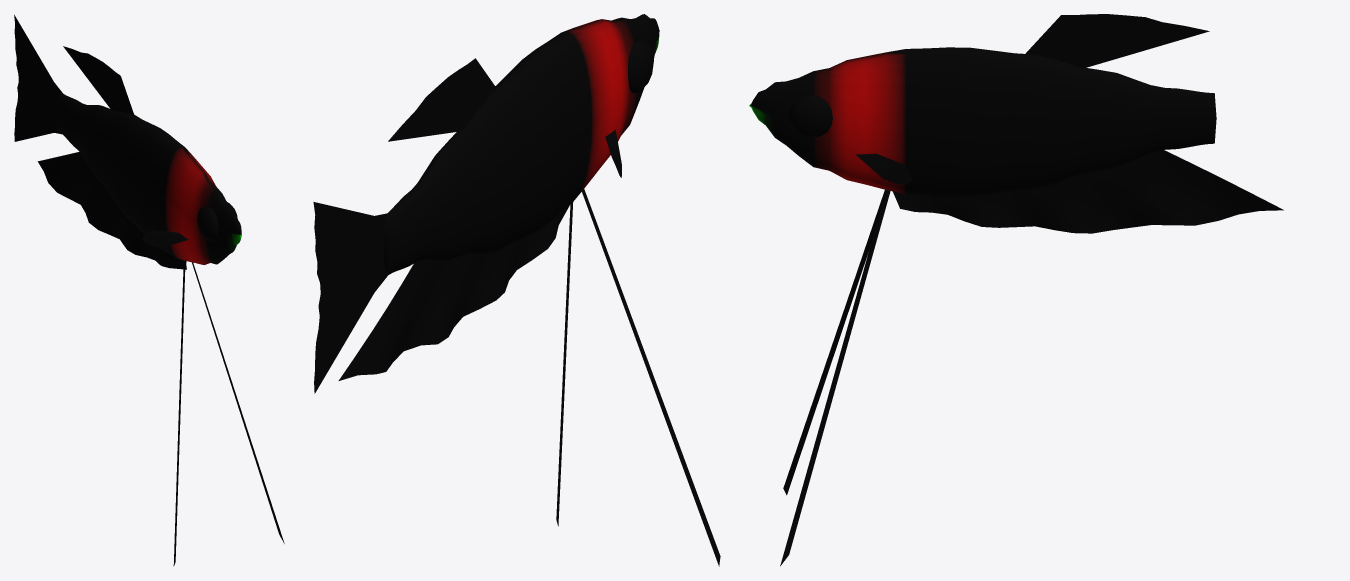
File: pearl-gourami.glb
The picture shows the model from 3 angles, left to right: view 1: azimuth 30°, elevation 25°; view 2: azimuth 150°, elevation 25°; view 3: azimuth 270°, elevation 25°; orthographic projection. The views are drawn at different scales.
Parts seen in each view (by area): view 1: pearl_body, pearl_anal, pearl_caudal, pearl_dorsal, pearl_pelvicL, pearl_pelvicR, pearl_eyeL, pearl_pectoralL; view 2: pearl_body, pearl_anal, pearl_caudal, pearl_dorsal, pearl_pelvicL, pearl_eyeL, pearl_pelvicR; view 3: pearl_body, pearl_anal, pearl_dorsal, pearl_pelvicR, pearl_pelvicL, pearl_eyeR, pearl_pectoralR.
Boxes of the visible parts, x1,y1,x2,y2 form: pearl_body: (55, 93, 241, 264); pearl_anal: (37, 152, 186, 269); pearl_caudal: (14, 14, 62, 141); pearl_dorsal: (63, 46, 134, 116); pearl_pelvicL: (173, 260, 185, 566); pearl_pelvicR: (192, 262, 284, 543); pearl_eyeL: (197, 206, 218, 241); pearl_pectoralL: (142, 230, 188, 247); pearl_body: (384, 14, 659, 276); pearl_anal: (338, 205, 569, 380); pearl_caudal: (313, 202, 387, 393); pearl_dorsal: (388, 58, 496, 141); pearl_pelvicL: (582, 189, 720, 566); pearl_eyeL: (628, 40, 653, 93); pearl_pelvicR: (556, 202, 573, 526); pearl_body: (749, 47, 1216, 197); pearl_anal: (892, 150, 1283, 233); pearl_dorsal: (1025, 14, 1209, 67); pearl_pelvicR: (780, 190, 890, 566); pearl_pelvicL: (783, 189, 885, 495); pearl_eyeR: (788, 95, 832, 137); pearl_pectoralR: (855, 153, 912, 184).
Size of the model in its own units: 0.3462 by 1.23 by 1.26.
